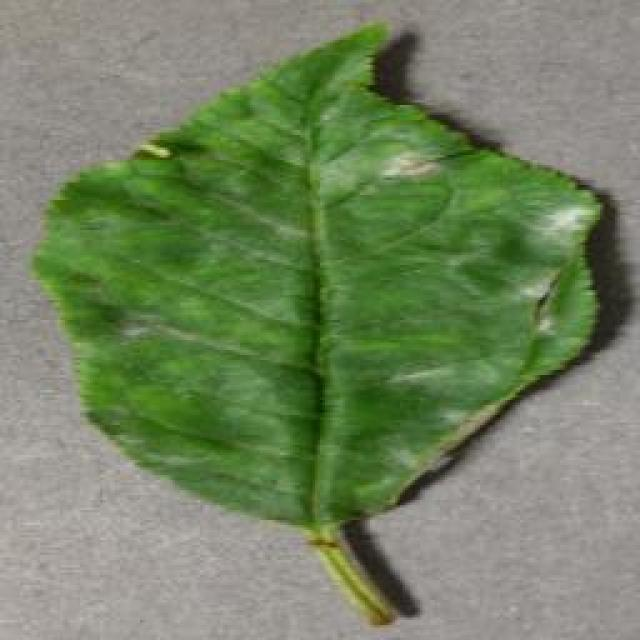Cherry___Powdery_mildew: (13, 8, 615, 638)
